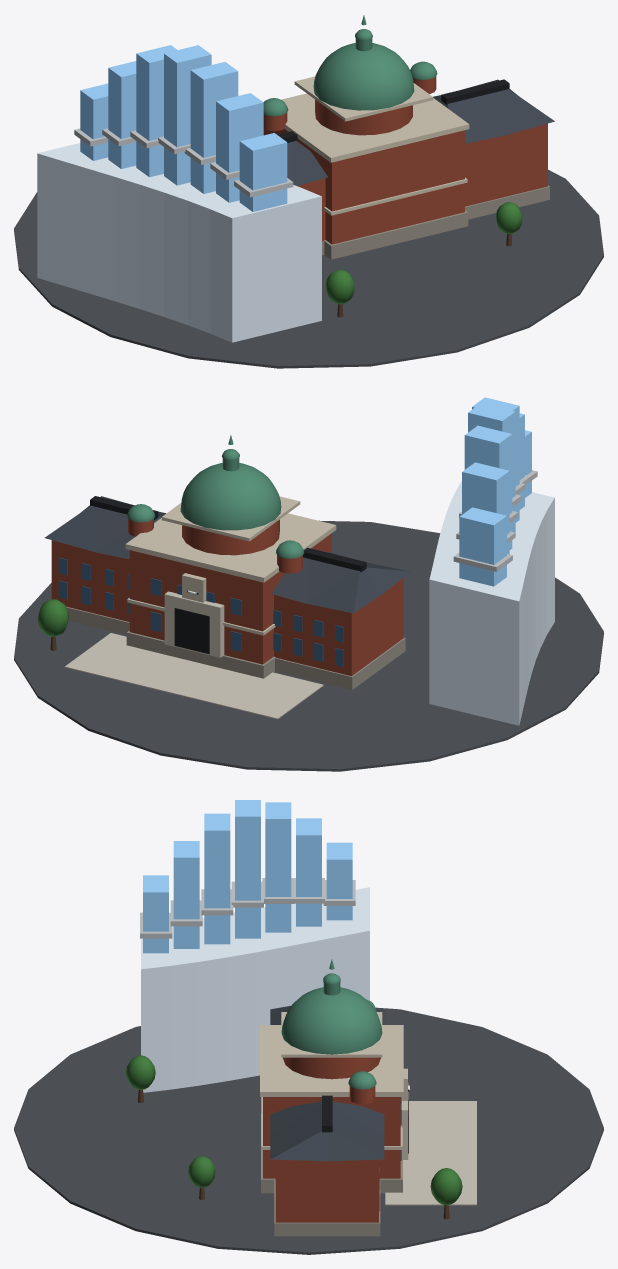
Rendered from seoul-station.glb.
3 views of the same model, one above another, from view 1: azimuth 30°, elevation 25°; view 2: azimuth 150°, elevation 25°; view 3: azimuth 270°, elevation 25° (orthographic).
Size of the model in its own units: 77.2 by 35.82 by 77.2.
